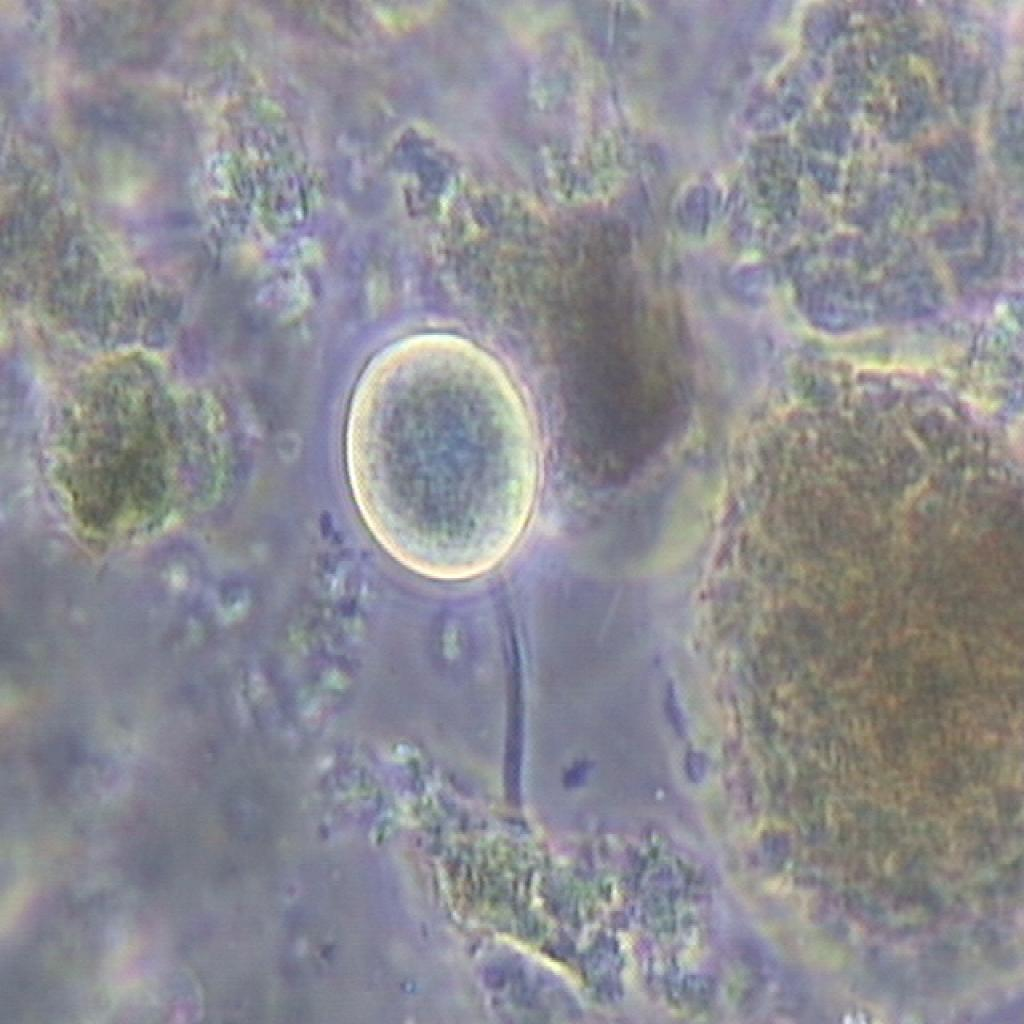Vorticella: (312, 323, 600, 825)
